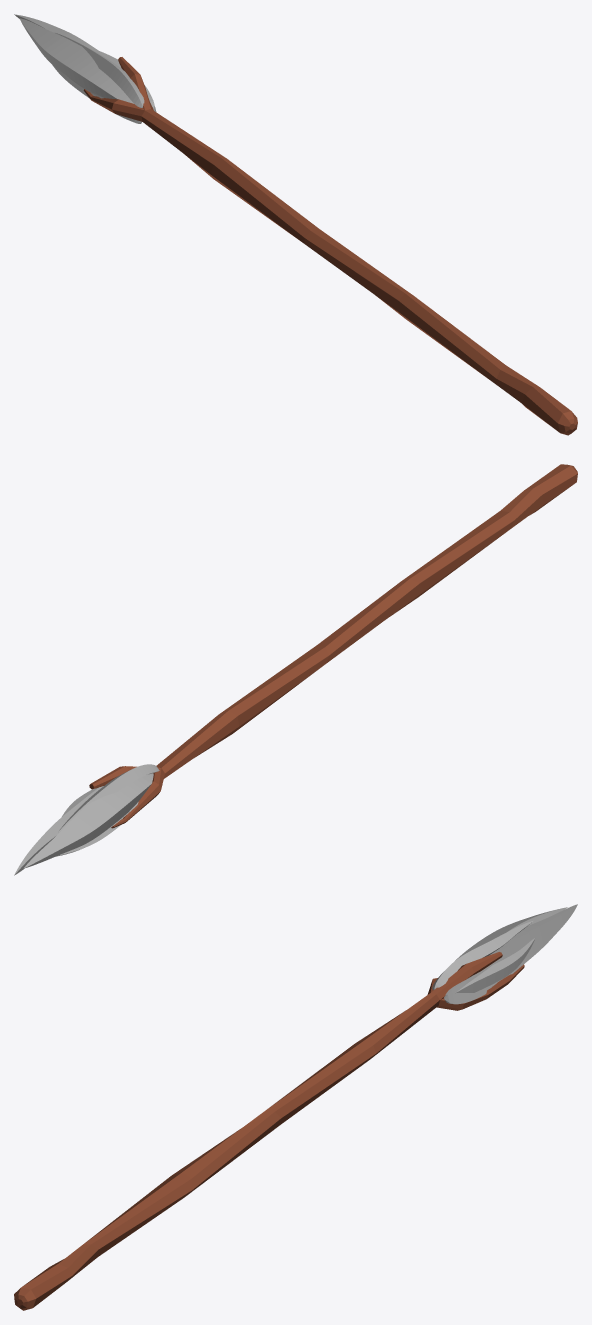
The model's file is Mop.fbx.
3 views of the same model, one above another, from view 1: azimuth 30°, elevation 25°; view 2: azimuth 150°, elevation 25°; view 3: azimuth 330°, elevation 25° (orthographic). The views are drawn at different scales.
Parts seen in each view (by area): view 1: moP, Bristle.001, Bristle.002, Bristle; view 2: moP, Bristle.001, Bristle.002, Bristle; view 3: moP, Bristle, Bristle.004, Bristle.002, Bristle.001.
Boxes of the visible parts, x1,y1,x2,y2 form: moP: [83, 57, 577, 435]; Bristle.001: [19, 18, 133, 103]; Bristle.002: [55, 33, 144, 107]; Bristle: [14, 14, 156, 111]; moP: [89, 464, 577, 828]; Bristle.001: [24, 773, 153, 868]; Bristle.002: [58, 764, 159, 831]; Bristle: [14, 786, 103, 875]; moP: [14, 952, 524, 1310]; Bristle: [444, 904, 577, 1004]; Bristle.004: [455, 938, 535, 993]; Bristle.002: [432, 921, 532, 990]; Bristle.001: [455, 907, 567, 960].
Bounding box in the file's own units: 63.47 × 59.65 × 1282.
